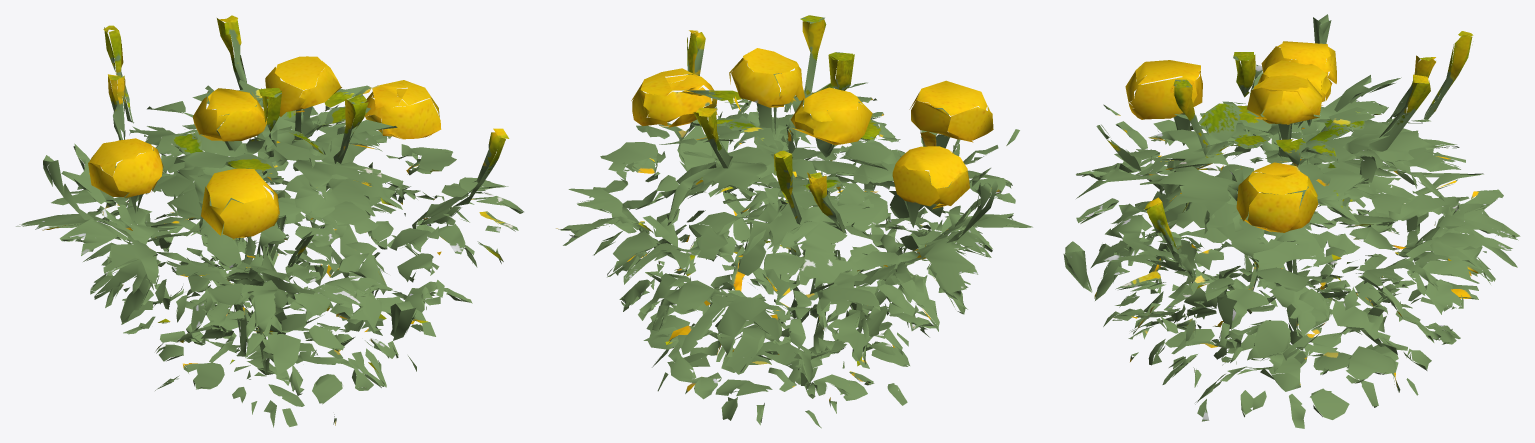
The picture shows the model from 3 angles, left to right: view 1: azimuth 30°, elevation 25°; view 2: azimuth 150°, elevation 25°; view 3: azimuth 270°, elevation 25°; orthographic projection. The views are drawn at different scales.
Visible parts, largest first — view 1: tmpqz88mk0x.ply; view 2: tmpqz88mk0x.ply; view 3: tmpqz88mk0x.ply.
Part boxes in pixels (bbox=[...]): tmpqz88mk0x.ply: bbox=[16, 15, 523, 427]; tmpqz88mk0x.ply: bbox=[556, 15, 1032, 428]; tmpqz88mk0x.ply: bbox=[1063, 14, 1520, 428].
Size of the model in its own units: 1.98 by 1.4 by 1.88.
Materials: 1 (1 with a texture image).
